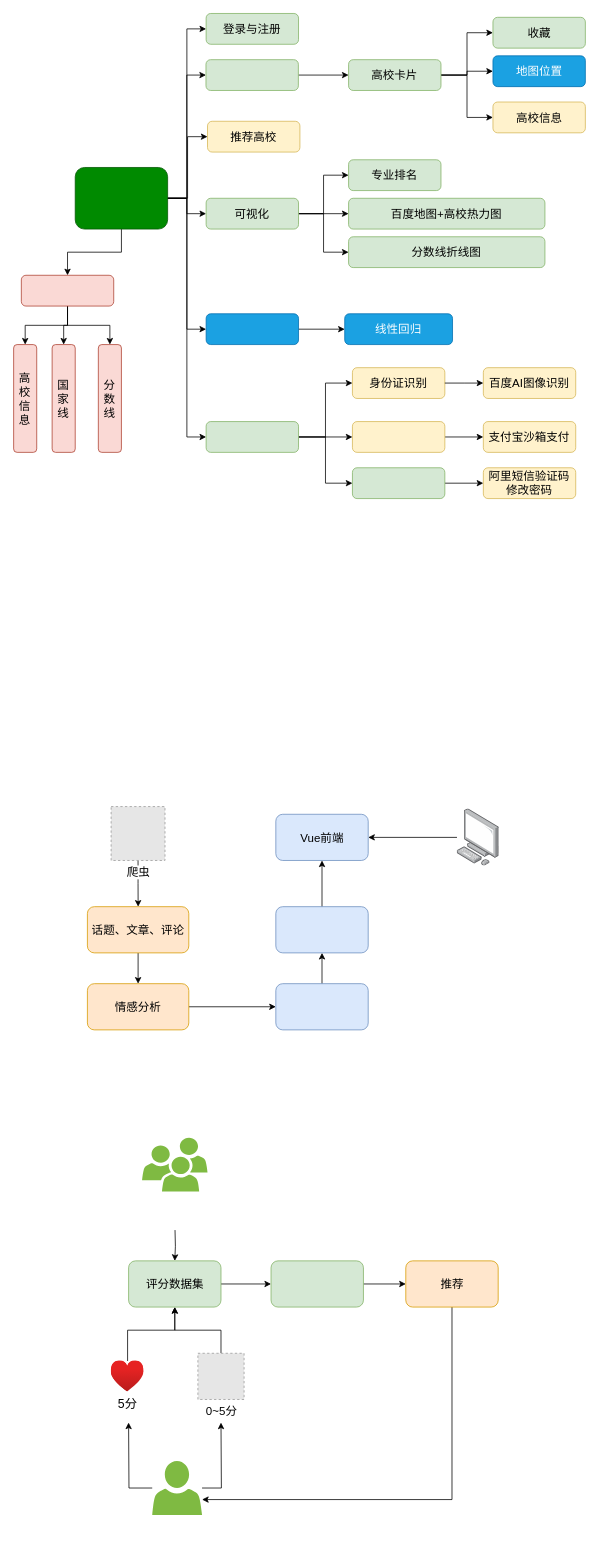
The diagram is 599 pixels wide and 1548 high, and some of its shapes have lost their labels. Grey dashed boxes stand in for pictures. Here are the shapes that lost their labels. From the top down, the box of each, then its label:
(205, 59, 298, 90): 首页
(74, 167, 168, 229): 考研预测 大数据平台
(21, 275, 114, 306): 爬虫模块
(205, 313, 299, 345): 国家线预测
(205, 421, 299, 452): 设置
(352, 421, 445, 452): 充值
(352, 467, 445, 499): 修改个人信息
(457, 808, 499, 866): 浏览器访问
(275, 906, 368, 953): FLASK 后端
(275, 983, 368, 1030): MySQL数据库
(142, 1137, 207, 1191): N个其他用户的评分
(270, 1260, 363, 1307): 协同过滤
(152, 1461, 202, 1515): 用户
